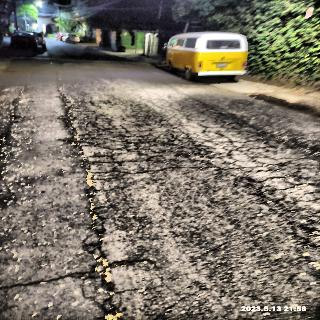alligator-crack: (178, 129, 320, 236), (80, 90, 156, 140), (110, 144, 158, 184)
crack: (51, 146, 124, 320)
